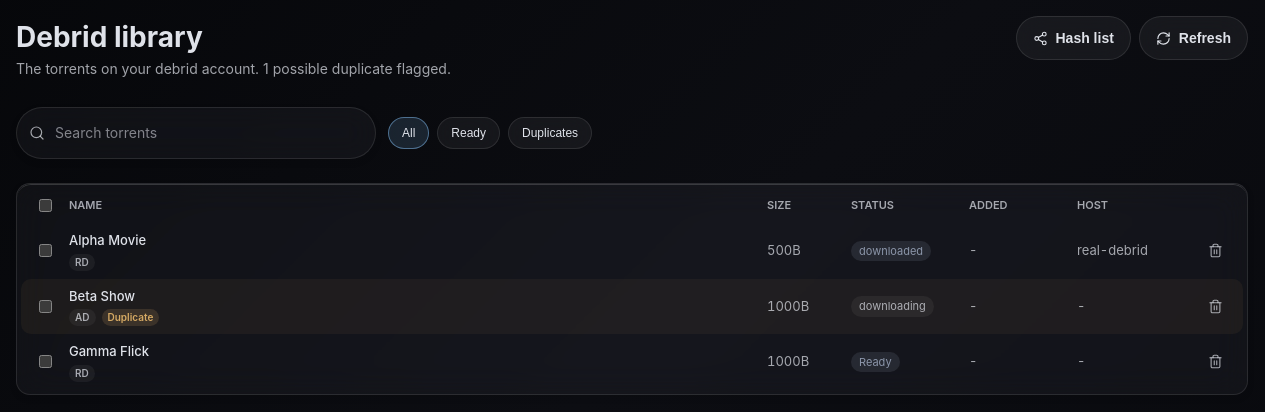
it: DebridLibrary - table render + filters › filters to Ready and to Duplicates via the chips
This screenshot has width=1265, height=412.
Click the button "Ready": (469, 133) [437,117,500,149]
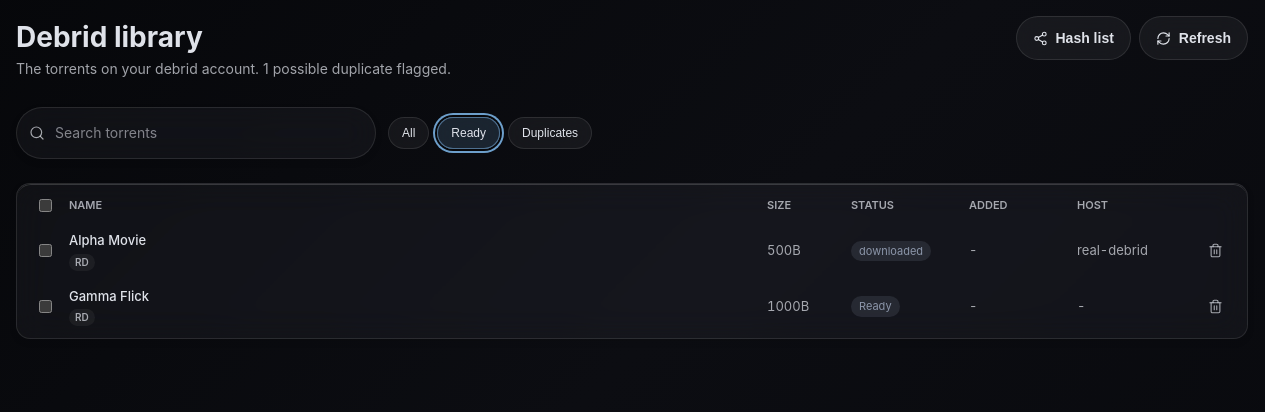
Expected: the text "Alpha Movie" is shown, [69,232,146,248]
Result: the text "Beta Show" is gone
Click the button "Duplicates": (550, 133) [508,117,592,149]
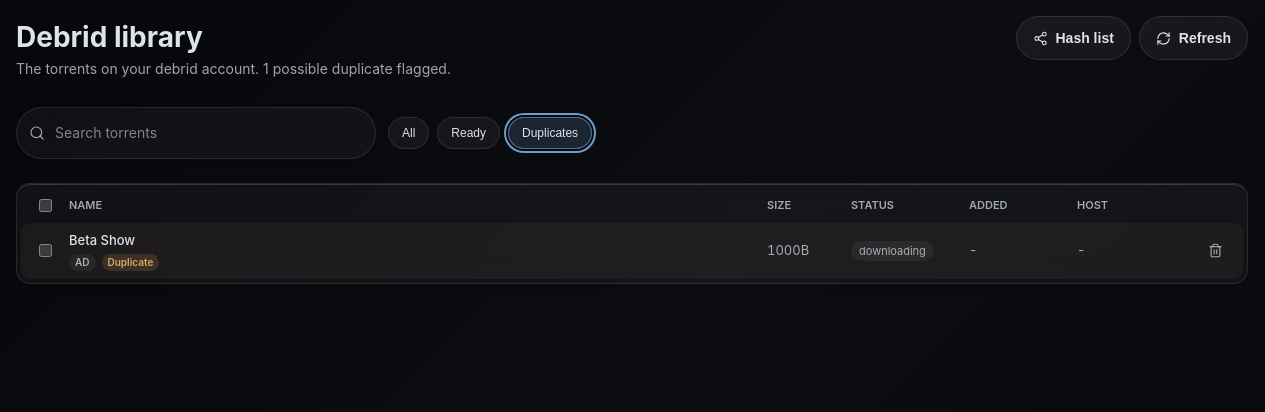
Result: the text "Beta Show" is shown at [69,232,135,248]
Result: the text "Alpha Movie" is gone
